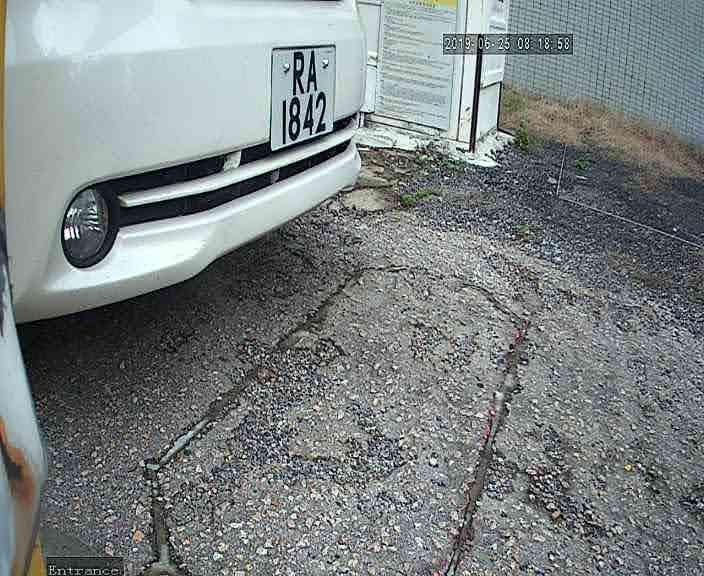privatecar: (2, 2, 405, 334)
